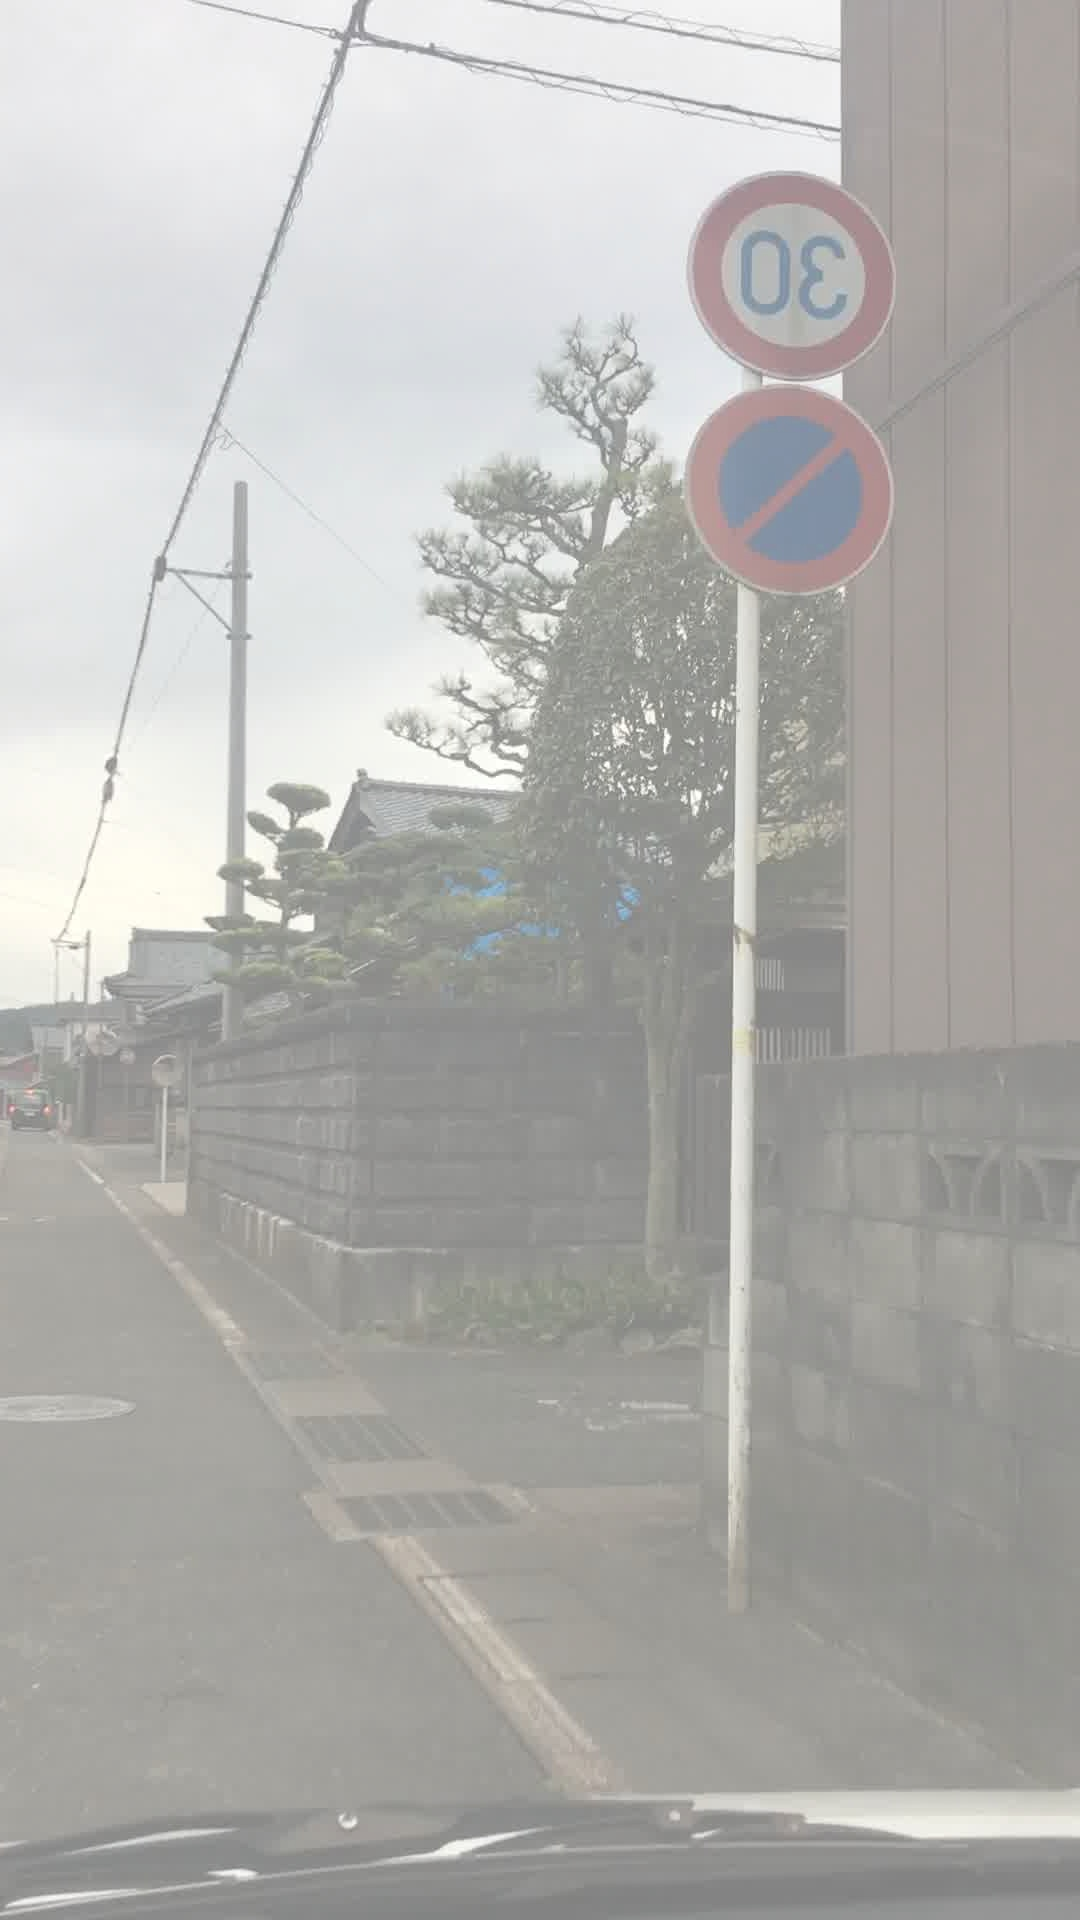Prohibition_sign: (670, 375, 890, 618)
Speed_sign: (669, 140, 913, 415)
